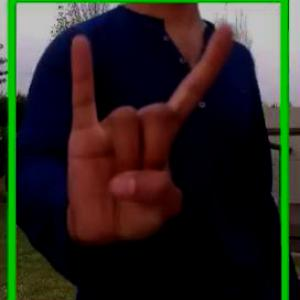takeoff-hand: (62, 10, 240, 266)
